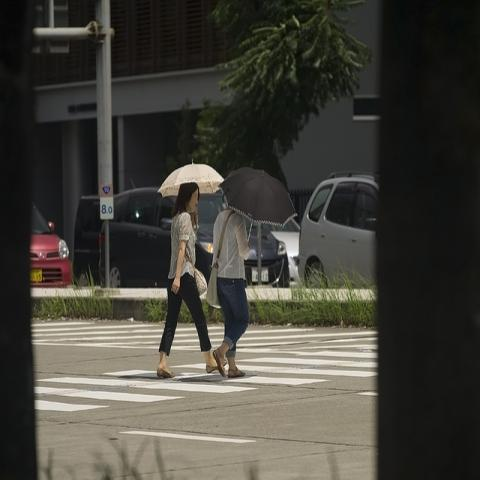car: (296, 171, 378, 290), (196, 190, 291, 288), (98, 187, 176, 289), (29, 197, 73, 288), (71, 194, 104, 286), (262, 219, 301, 281)
